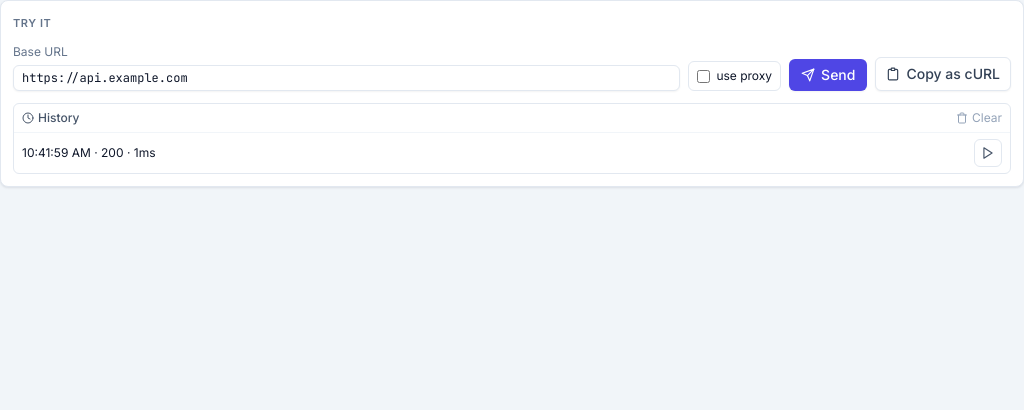
Test: secret capture: updates IDB secrets and renders green row
Click the button "Send" at (828,75), box x1=789 y1=59 x2=867 y2=91
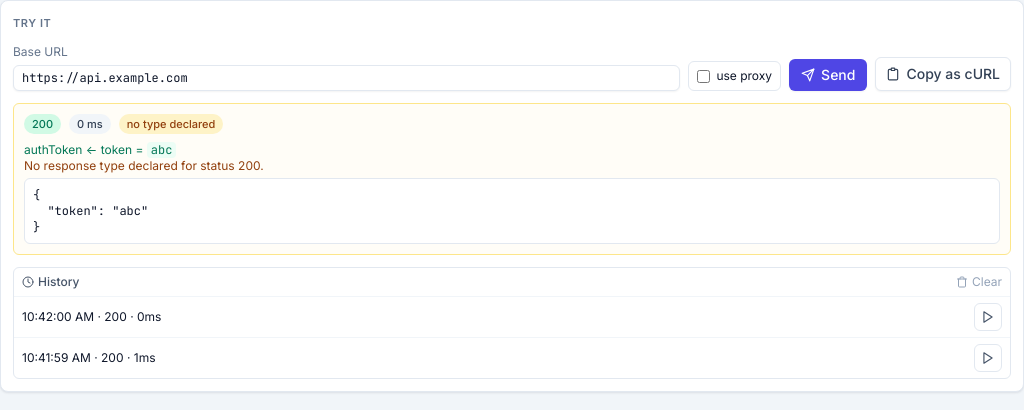
Check: the text "authToken ← token = abc" is shown, box x1=24 y1=142 x2=176 y2=157
Check: the text "abc" is shown, box x1=147 y1=142 x2=176 y2=158
